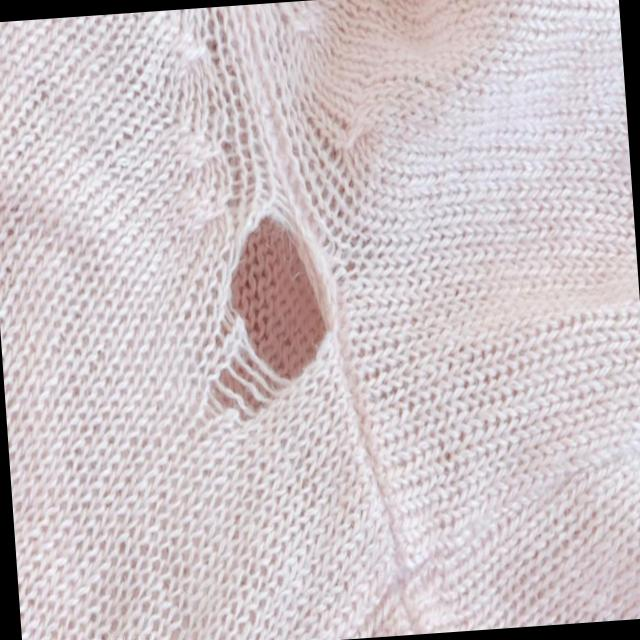cut: (195, 196, 344, 434)
